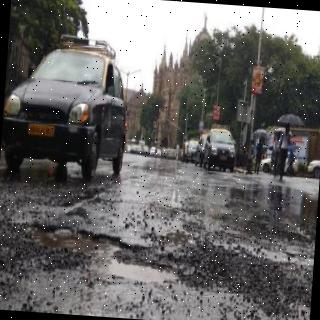pothole: (24, 226, 120, 255), (108, 259, 178, 283)
